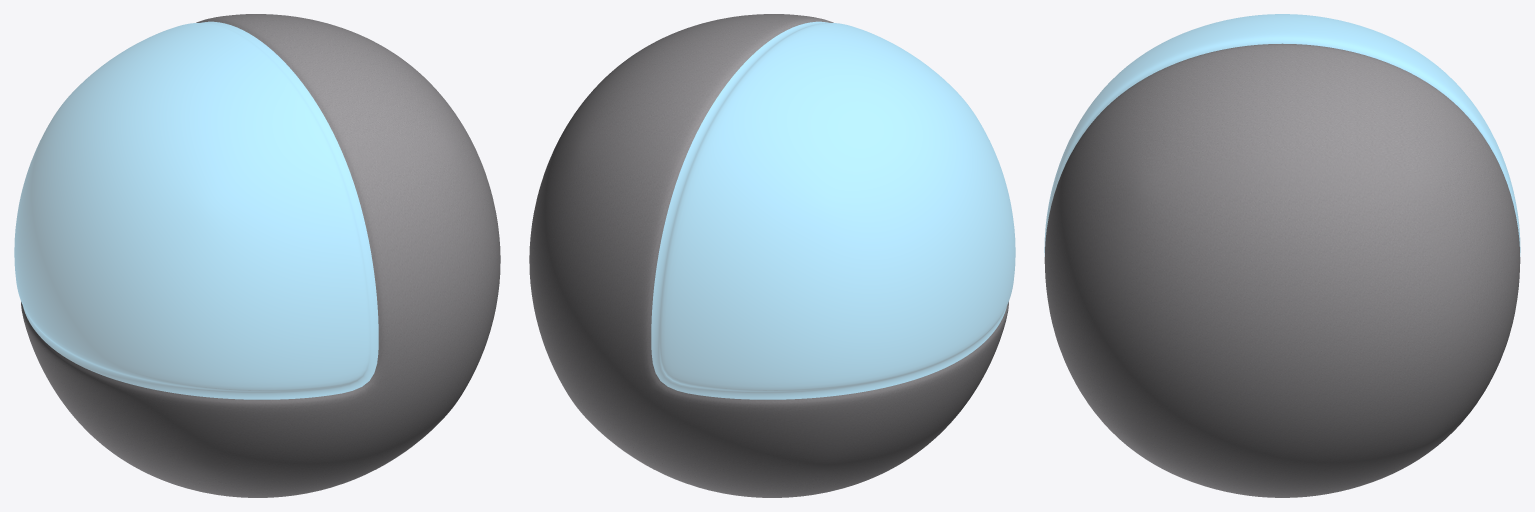
The model's file is reflective_ball.glb.
3 views of the same model, side by side, from view 1: azimuth 30°, elevation 25°; view 2: azimuth 150°, elevation 25°; view 3: azimuth 270°, elevation 25° (orthographic).
Parts seen in each view (by area): view 1: Cube.002, Cube; view 2: Cube.002, Cube; view 3: Cube, Cube.002.
Part boxes in pixels (x1,y1,x2,y2): Cube.002: (14, 21, 378, 399); Cube: (21, 14, 500, 497); Cube.002: (651, 21, 1015, 399); Cube: (529, 14, 1008, 497); Cube: (1044, 43, 1520, 497); Cube.002: (1044, 14, 1520, 256).
Bounding box in the file's own units: 166 × 166 × 166.
2 materials, 2 textured.
